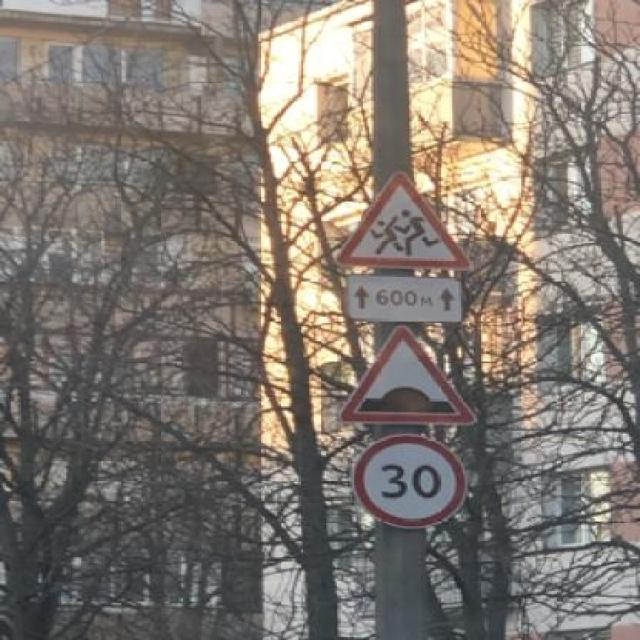forb_speed_over_30: (358, 436, 470, 533)
